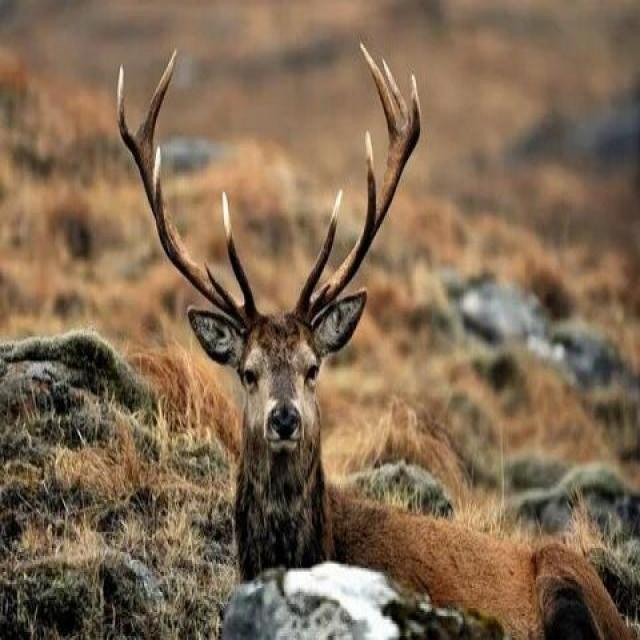deer: (161, 145, 508, 612)
